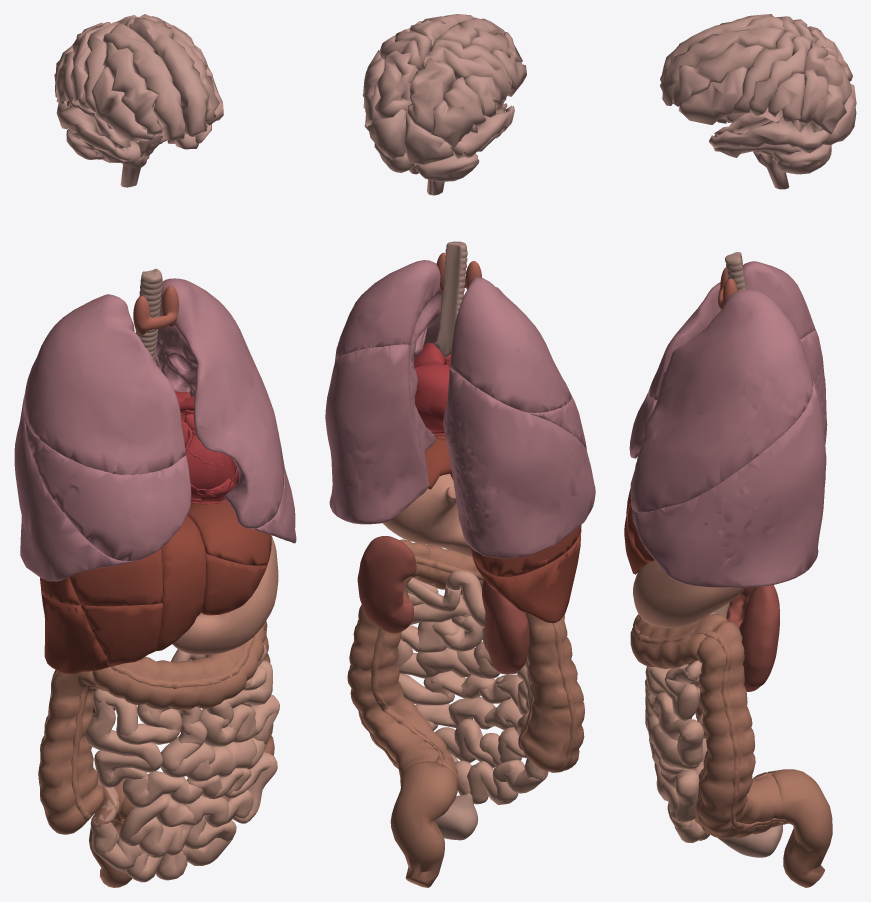
File: organs.glb
3 views of the same model, side by side, from view 1: azimuth 30°, elevation 25°; view 2: azimuth 150°, elevation 25°; view 3: azimuth 270°, elevation 25° (orthographic). The views are drawn at different scales.
Parts seen in each view (by area): view 1: lungs, small_intestine, liver, brain, large_intestine, stomach, heart, thyroid_gland, trachea; view 2: lungs, large_intestine, brain, small_intestine, kidneys, liver, stomach, heart, trachea, urinary_bladder; view 3: lungs, brain, large_intestine, small_intestine, stomach, kidneys, urinary_bladder, liver, trachea.
Boxes of the visible parts, <box> form: lungs: <box>14,278,296,581</box>; small_intestine: <box>85,643,279,882</box>; liver: <box>40,499,271,674</box>; brain: <box>54,14,223,187</box>; large_intestine: <box>38,621,274,887</box>; stomach: <box>172,535,278,654</box>; heart: <box>175,391,238,504</box>; thyroid_gland: <box>133,285,179,335</box>; trachea: <box>135,268,162,364</box>; lungs: <box>325,260,595,558</box>; large_intestine: <box>347,539,584,887</box>; brain: <box>362,14,526,195</box>; small_intestine: <box>397,570,548,804</box>; kidneys: <box>357,536,529,673</box>; liver: <box>425,433,581,622</box>; stomach: <box>382,474,472,556</box>; heart: <box>414,343,450,440</box>; trachea: <box>434,241,467,357</box>; urinary_bladder: <box>434,793,477,840</box>; lungs: <box>629,261,827,587</box>; brain: <box>660,14,856,189</box>; large_intestine: <box>630,613,832,887</box>; small_intestine: <box>645,602,729,842</box>; stomach: <box>633,560,745,628</box>; kidneys: <box>726,585,779,691</box>; urinary_bladder: <box>717,825,782,857</box>; liver: <box>624,488,654,574</box>; trachea: <box>725,252,746,290</box>.
Size of the model in its own units: 0.2534 by 0.8738 by 0.2128.
